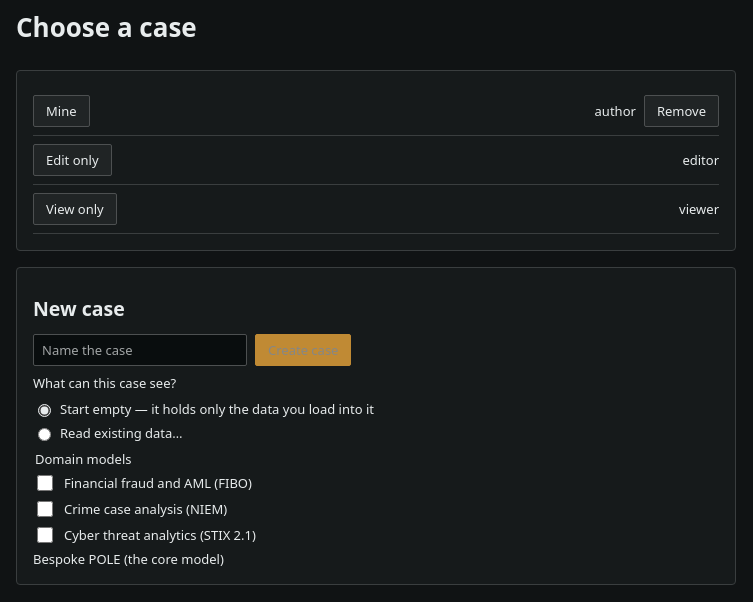
Test: removing a case from the picker › removes the case on confirmation and it leaves the list
Expected: the button "Mine" is shown, [33,95,90,127]
Click the button with aria-label "Remove Mine" at x=681, y=111, box [644,95,719,127]
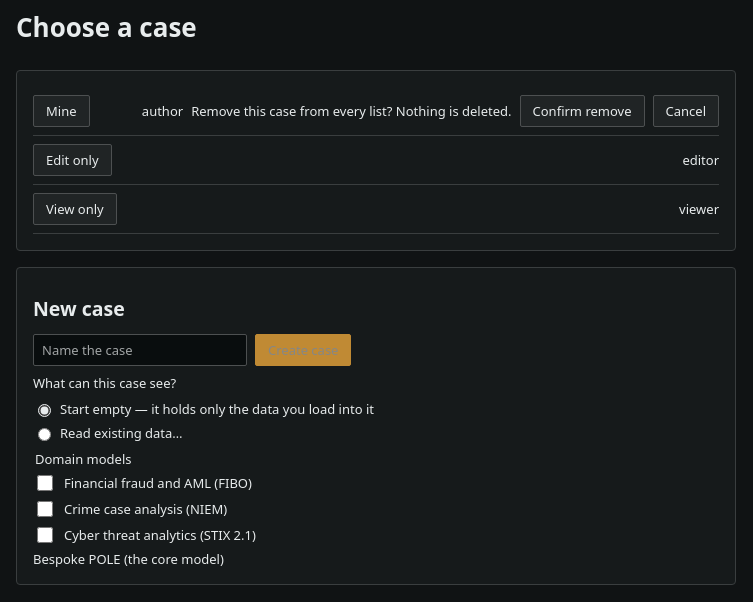
Click the button "Confirm remove" at x=582, y=111, box [520,95,644,127]
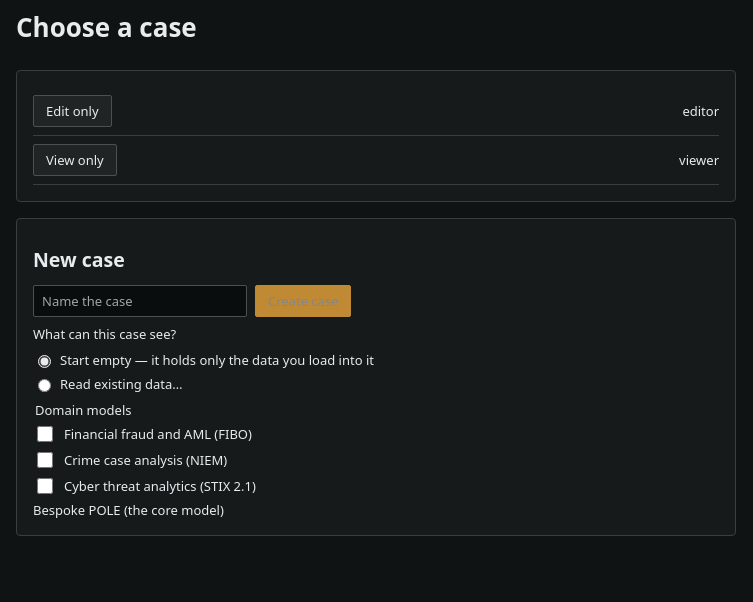
Expected: the button "Edit only" is shown, [33,95,112,127]
Expected: the button "Mine" is gone
